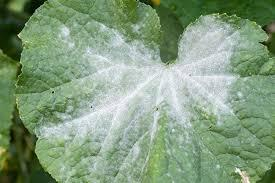powdery_mildew: (34, 15, 252, 163)
